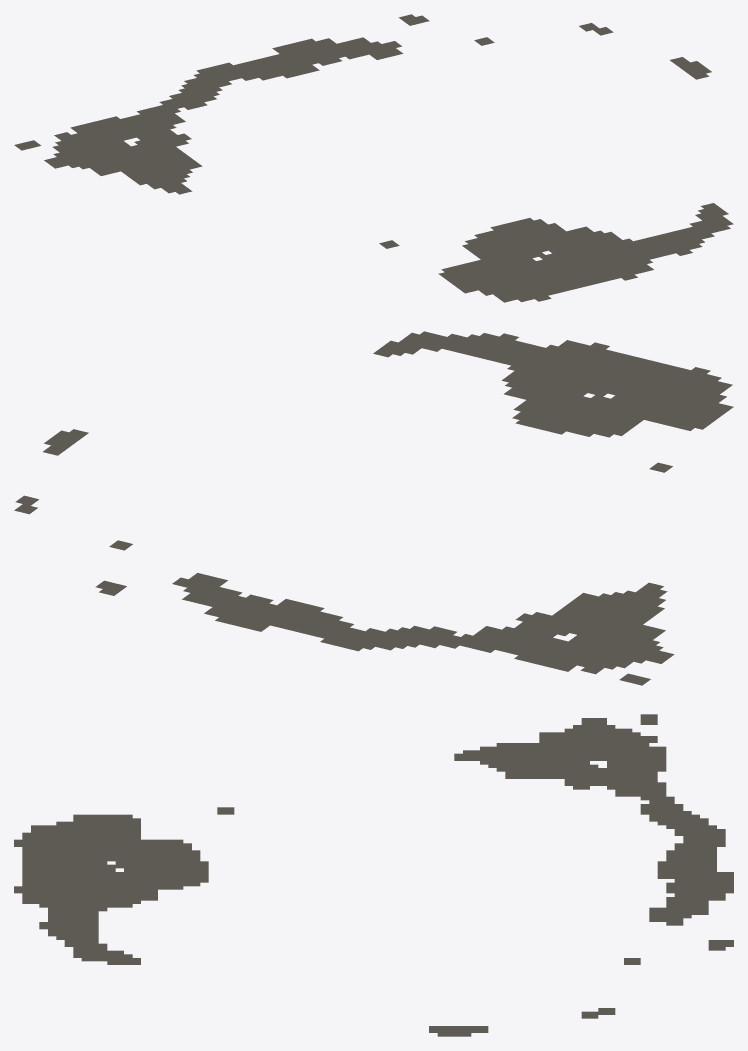
The model's file is Isl-start5-NoBuildArea.fbx.
3 views of the same model, one above another, from view 1: azimuth 30°, elevation 25°; view 2: azimuth 150°, elevation 25°; view 3: azimuth 270°, elevation 25° (orthographic). The views are drawn at different scales.
Parts seen in each view (by area): view 1: Isl-start5-NoBuildArea; view 2: Isl-start5-NoBuildArea; view 3: Isl-start5-NoBuildArea.
Boxes of the visible parts, left/top/right/bottom form: Isl-start5-NoBuildArea: left=14, top=14, right=733, bottom=302; Isl-start5-NoBuildArea: left=14, top=331, right=733, bottom=685; Isl-start5-NoBuildArea: left=14, top=714, right=733, bottom=1036.
Size of the model in its own units: 90 by 0 by 85.
